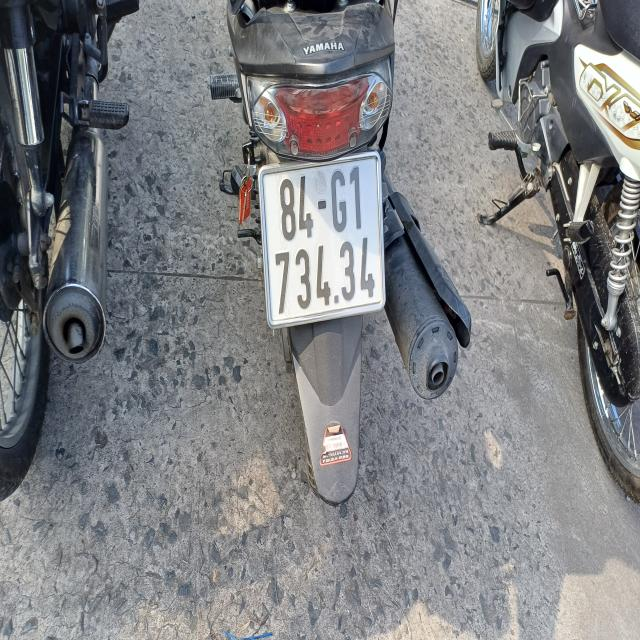1: (349, 165, 363, 234)
3: (295, 247, 313, 312), (339, 241, 356, 303)
4: (297, 172, 315, 242), (358, 236, 376, 302), (315, 240, 332, 306)
7: (273, 249, 292, 317)
8: (279, 178, 297, 240)
G: (329, 167, 348, 233)
